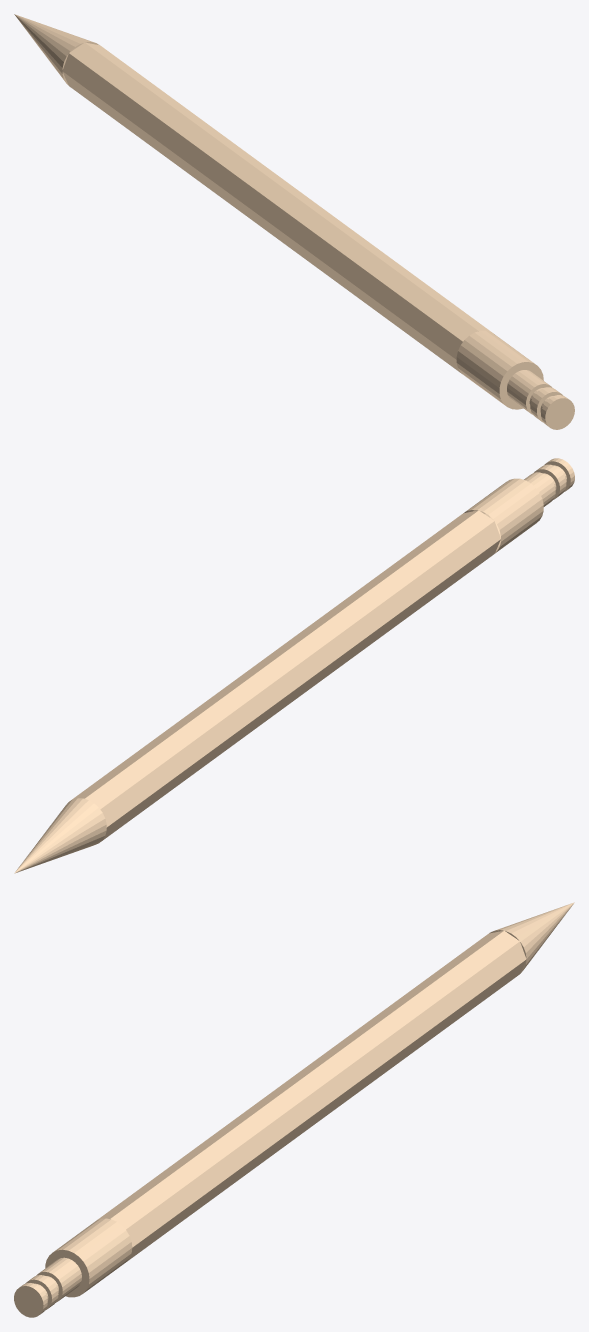
File: pen1_2.dae
The picture shows the model from 3 angles, top to bottom: view 1: azimuth 30°, elevation 25°; view 2: azimuth 150°, elevation 25°; view 3: azimuth 330°, elevation 25°; orthographic projection.
Parts seen in each view (by area): view 1: M000300_019; view 2: M000300_019; view 3: M000300_019.
Part boxes in pixels (x1,y1,x2,y2): M000300_019: [14, 14, 574, 429]; M000300_019: [14, 458, 574, 873]; M000300_019: [14, 902, 574, 1317].
Bounding box in the file's own units: 0.0117 × 0.2481 × 0.0117.
